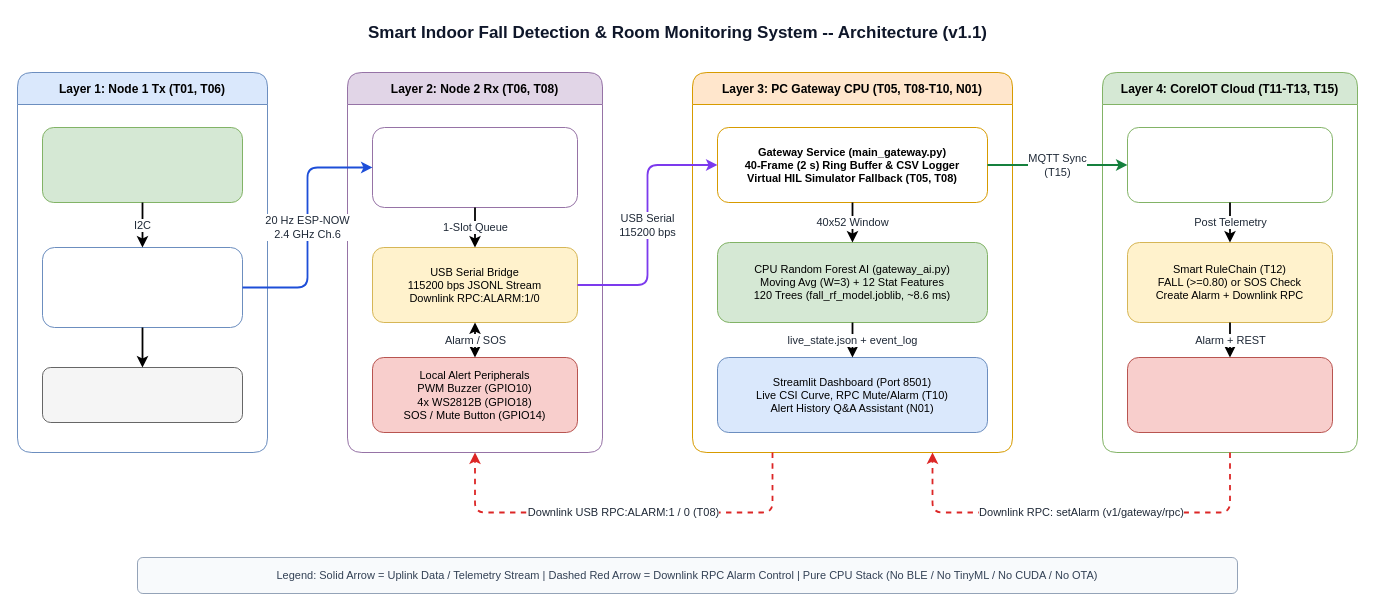
This 1375x611 diagram has some shape labels left out. The shapes that lost their labels are listed below. From the top down, each one's centre as x and y in pixels, then its label:
point (142, 164): DHT20 / AHT20 Sensor I2C 0x38 (GPIO11/12) Non-Blocking 5 s Poll (T01)
point (475, 167): YoloUNO #2 (ESP32-S3) Auto-Pair MAC + PHY CSI Rx 52 Active OFDM Subcarriers
point (1229, 164): CoreIOT MQTT Gateway v1/gateway/connect & telemetry YoloUNO_Node1_Tx & Node2_Rx
point (142, 287): YoloUNO #1 (ESP32-S3) 24-Byte Frame (0xC51A + CRC-8) 20 Hz ESP-NOW Tx Ch.6 (T06)
point (142, 394): Onboard WS2812B LED GPIO48 Heartbeat (1 Hz)
point (1229, 394): Caregiver Outputs CoreIOT Web Dashboard (T11) Telegram Bot Emergency Push (T13)
